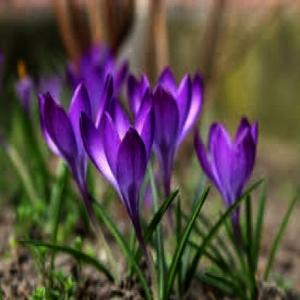Saffron: (80, 92, 156, 218), (127, 65, 206, 178), (36, 75, 114, 189), (195, 115, 260, 218)
